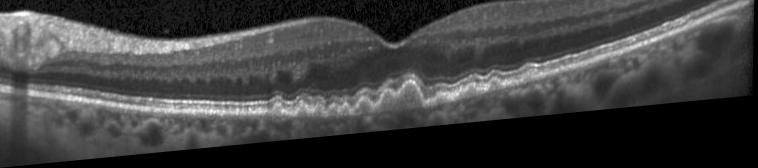retinal_drusen: (375, 90, 424, 121), (459, 94, 485, 110), (523, 79, 546, 95), (354, 104, 373, 122), (266, 111, 287, 123), (309, 111, 326, 124), (489, 89, 504, 103), (435, 103, 450, 114), (297, 113, 308, 124), (341, 111, 351, 123), (328, 114, 339, 124)
